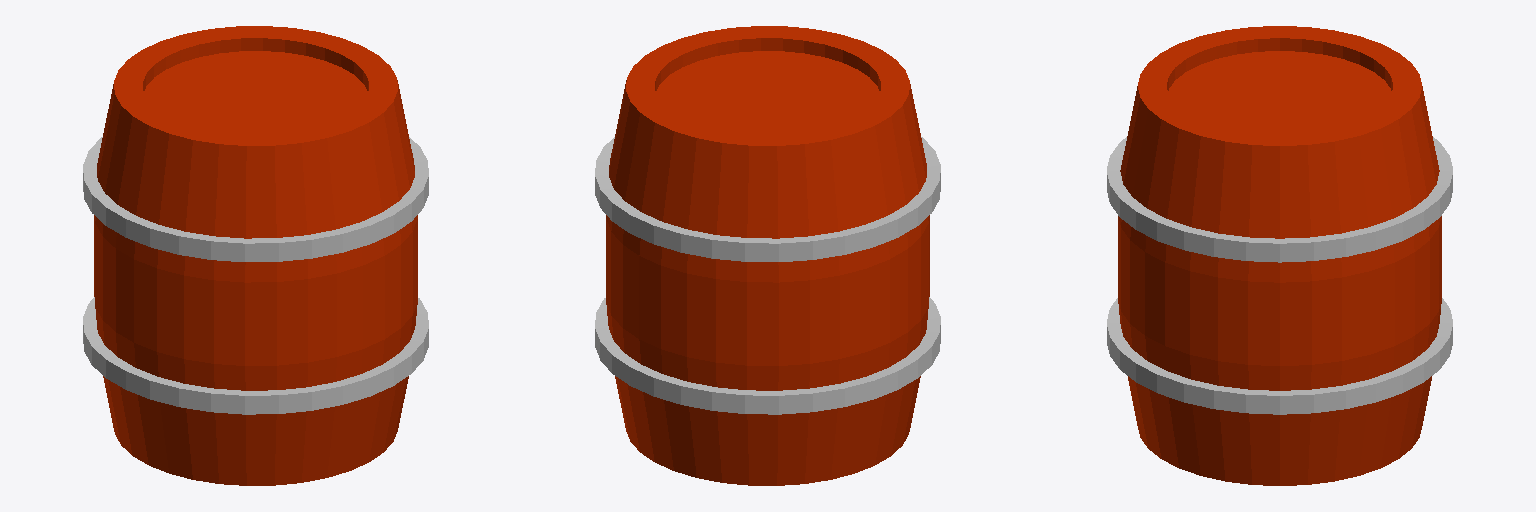
File: barrel.obj
The picture shows the model from 3 angles: view 1: azimuth 30°, elevation 25°; view 2: azimuth 150°, elevation 25°; view 3: azimuth 270°, elevation 25°; orthographic projection.
Visible parts, largest first — view 1: Cylinder; view 2: Cylinder; view 3: Cylinder.
Part boxes in pixels (x1,y1,x2,y2): Cylinder: (83, 26, 428, 485); Cylinder: (595, 26, 940, 485); Cylinder: (1107, 26, 1452, 485).
Bounding box in the file's own units: 1.67 × 1.81 × 1.67.